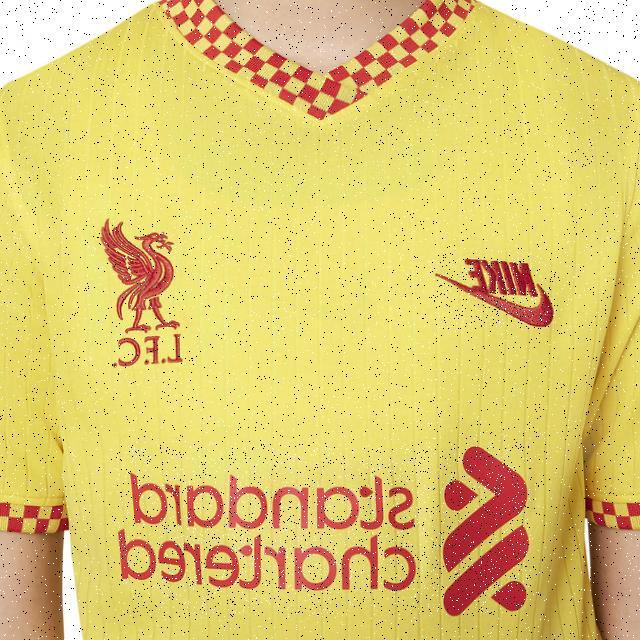Nike: (434, 258, 556, 329)
Standard Chartered: (118, 444, 531, 616)
